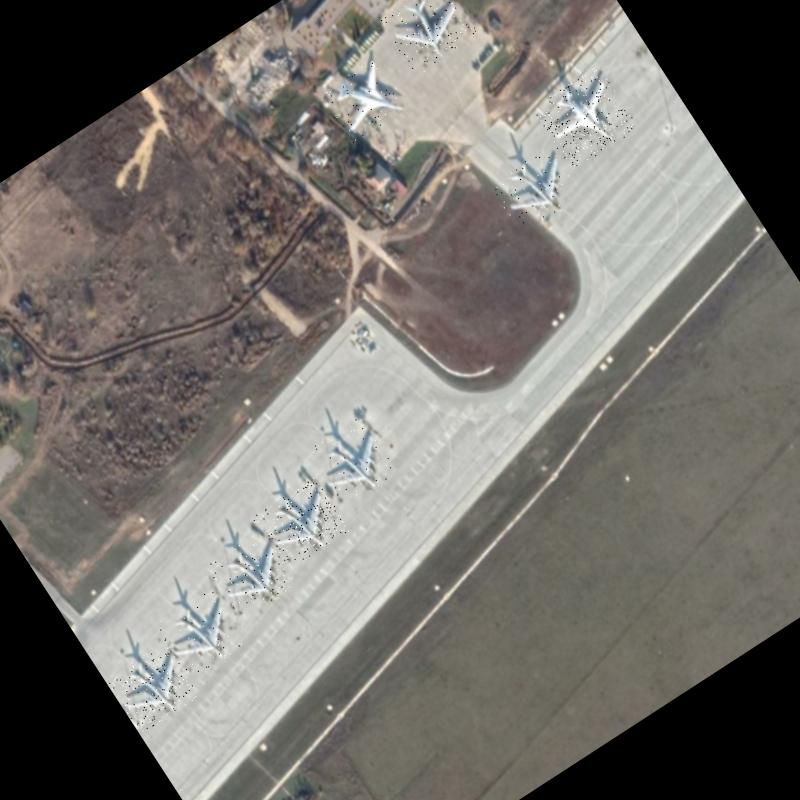A17: (252, 476, 351, 571), (154, 586, 250, 681), (306, 415, 400, 510), (106, 640, 200, 734), (488, 142, 584, 234), (206, 529, 298, 621), (380, 0, 480, 77)
A6: (532, 65, 640, 171), (317, 54, 410, 146)
